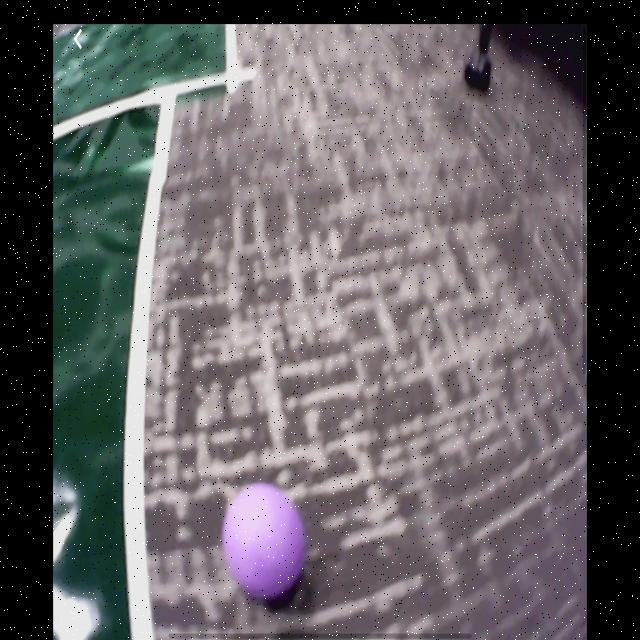ball: (222, 485, 303, 603)
